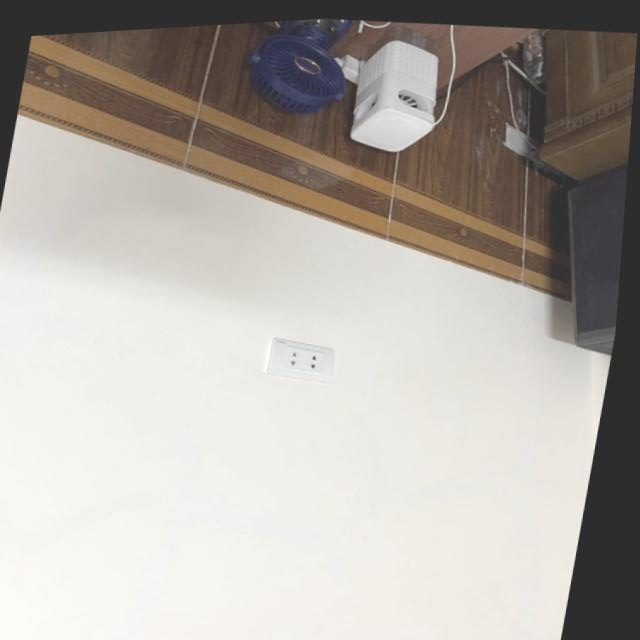outlet: (264, 333, 340, 386)
